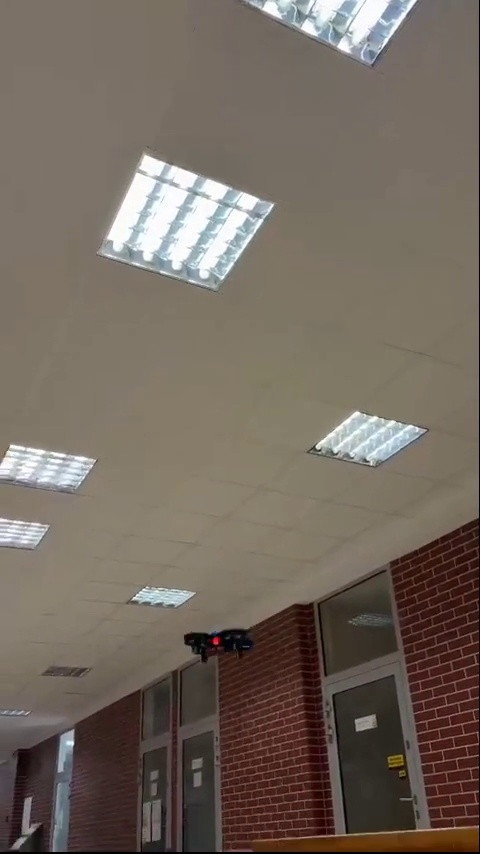drone: (182, 626, 252, 659)
